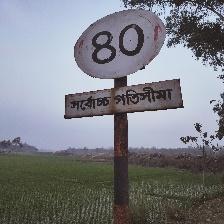Speed-limit: (67, 6, 179, 119)
